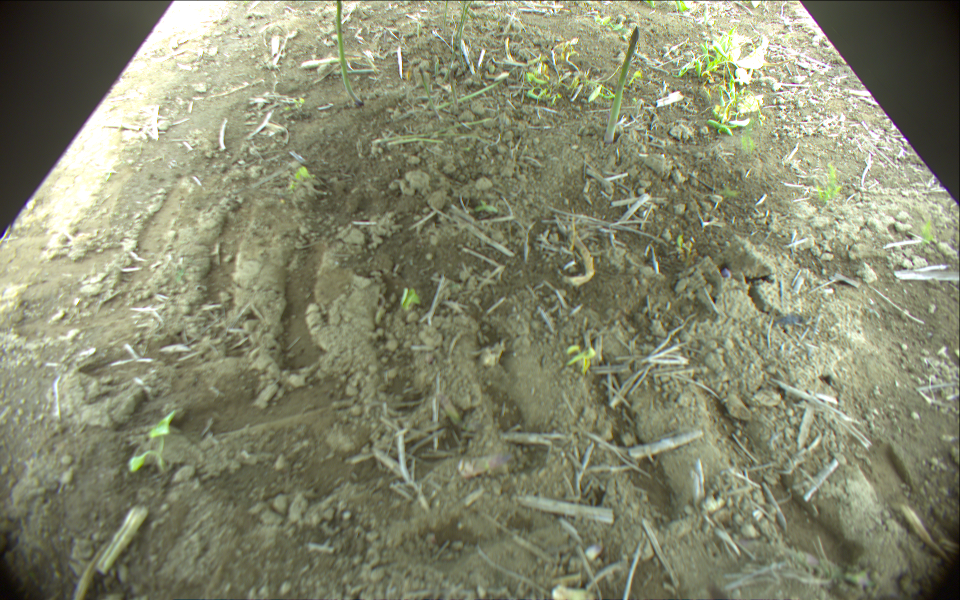aspa: (605, 23, 639, 142), (336, 1, 365, 105)
